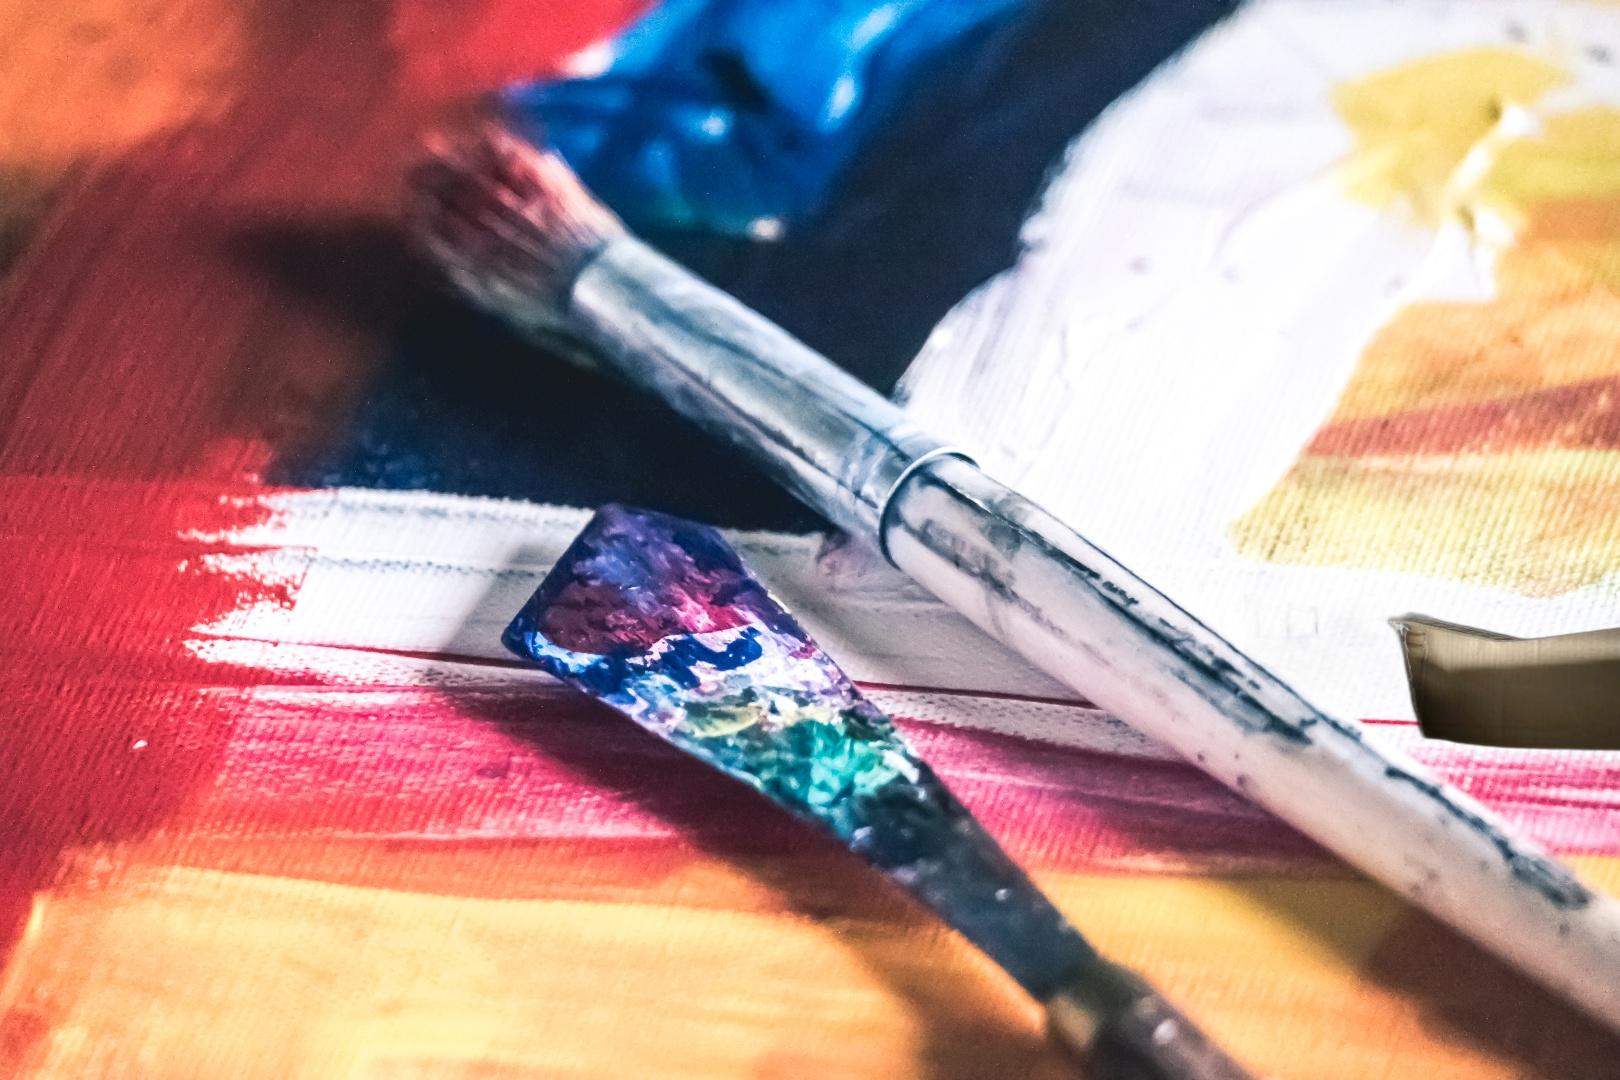trashbox-cardboard: (1244, 545, 1620, 855)
